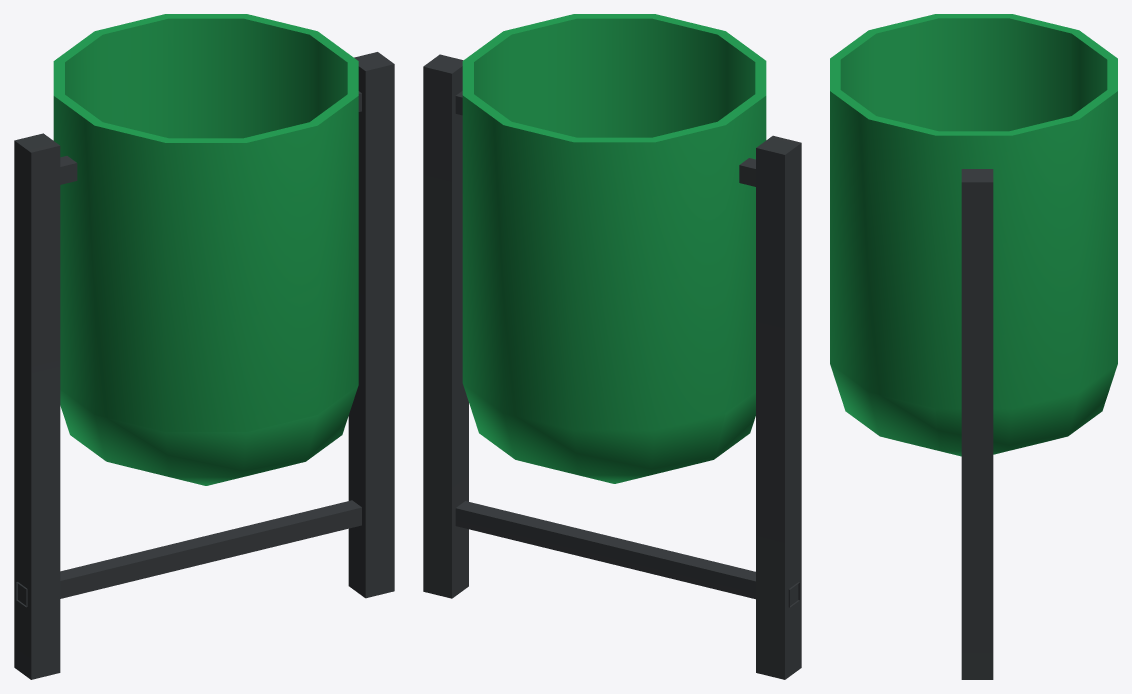
Rendered from SM_Trash_01.fbx.
The picture shows the model from 3 angles, left to right: view 1: azimuth 30°, elevation 25°; view 2: azimuth 150°, elevation 25°; view 3: azimuth 270°, elevation 25°; orthographic projection. The views are drawn at different scales.
Parts seen in each view (by area): view 1: SM_Trash_01; view 2: SM_Trash_01; view 3: SM_Trash_01.
Part boxes in pixels (bbox=[...]): SM_Trash_01: bbox=[14, 14, 394, 679]; SM_Trash_01: bbox=[423, 14, 801, 679]; SM_Trash_01: bbox=[830, 14, 1117, 679].
Size of the model in its own units: 31.66 by 45.8 by 22.91.
1 material, 1 textured.
